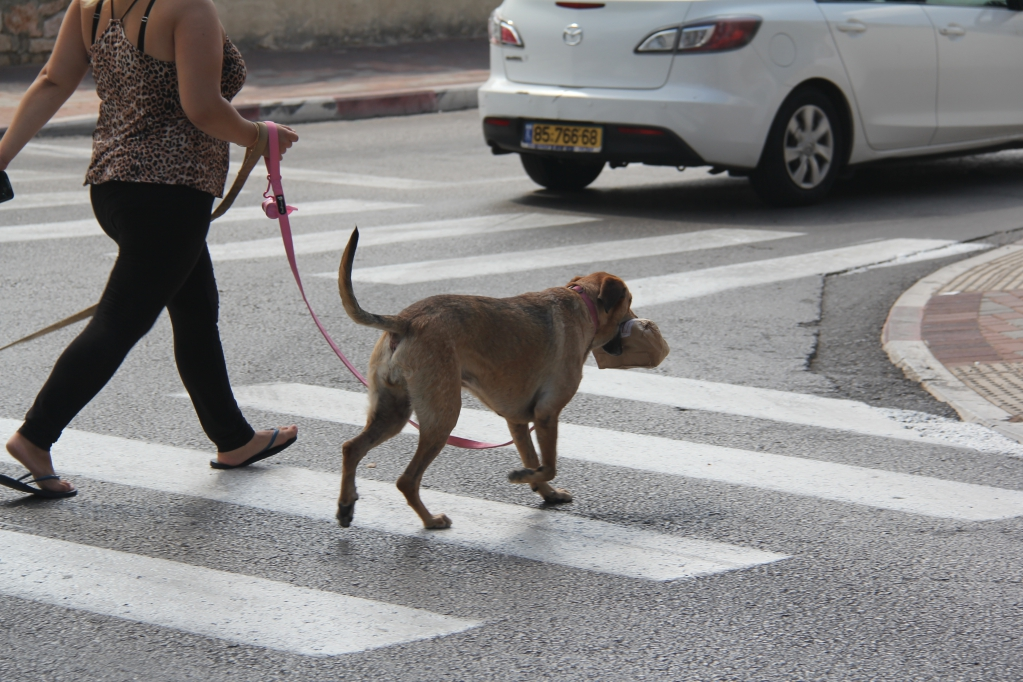kopek: (314, 223, 678, 530)
otomobil: (450, 0, 1022, 231)
yaya: (0, 0, 308, 484)
